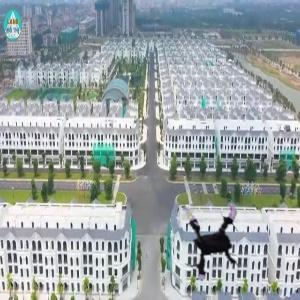drone: (164, 196, 260, 292)
